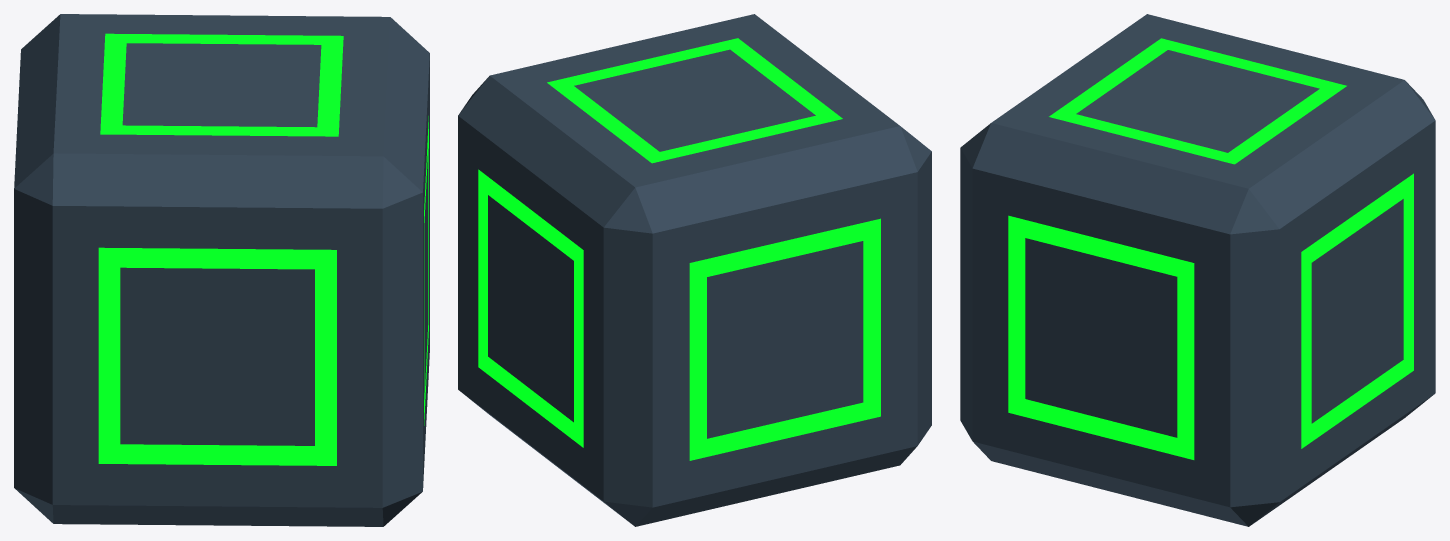
Rendered from Box_Trick.fbx.
3 renders of one model, left to right at view 1: azimuth 30°, elevation 25°; view 2: azimuth 150°, elevation 25°; view 3: azimuth 270°, elevation 25°, orthographic. The views are drawn at different scales.
Parts seen in each view (by area): view 1: 立方体.079; view 2: 立方体.079; view 3: 立方体.079.
Part boxes in pixels (<box>): 立方体.079: <box>14,14,429,526</box>; 立方体.079: <box>458,14,931,526</box>; 立方体.079: <box>960,14,1435,526</box>.
Bounding box in the file's own units: 127 × 127 × 100.
